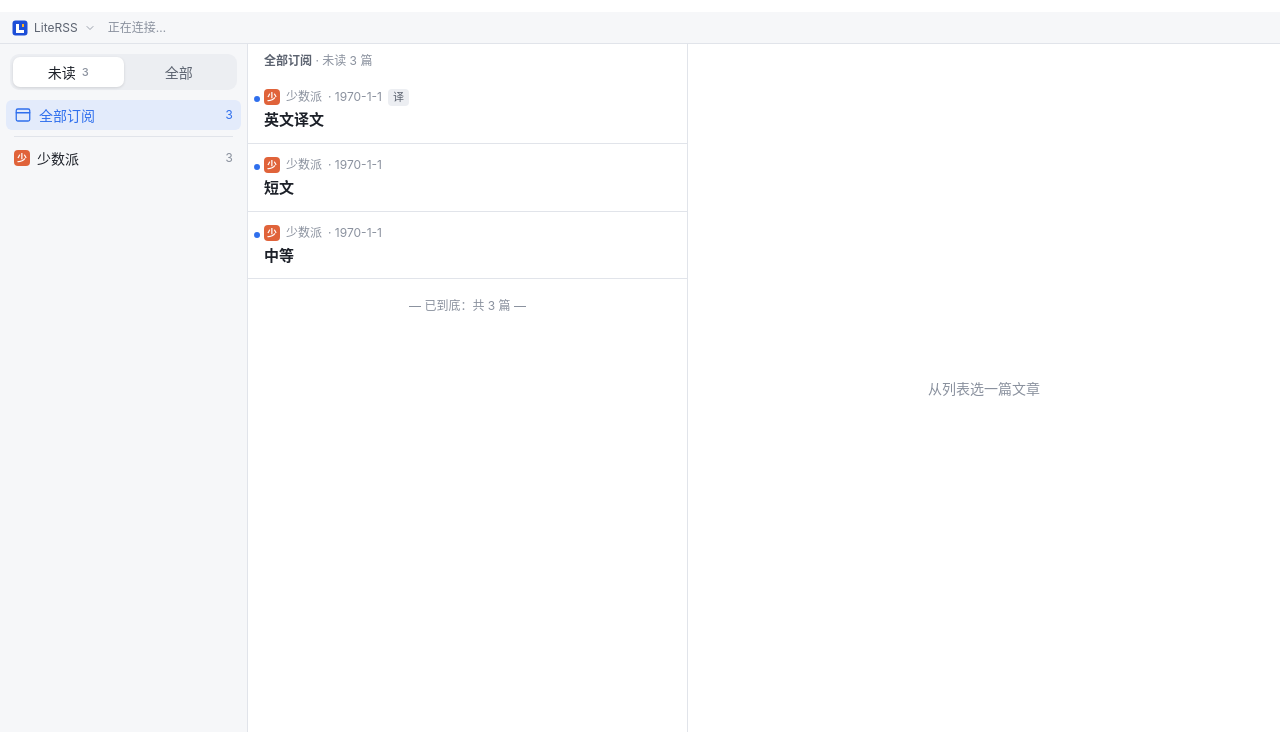
Test: 详情 › 抓取失败：保留 RSS 正文，显示原因与在浏览器打开
What coordinates should you click on to do the following:
click the option "少 少数派 · 1970-1-1 短文"
I would click on:
 (304, 164)
Its box is top-left (248, 144), bottom-right (687, 212).
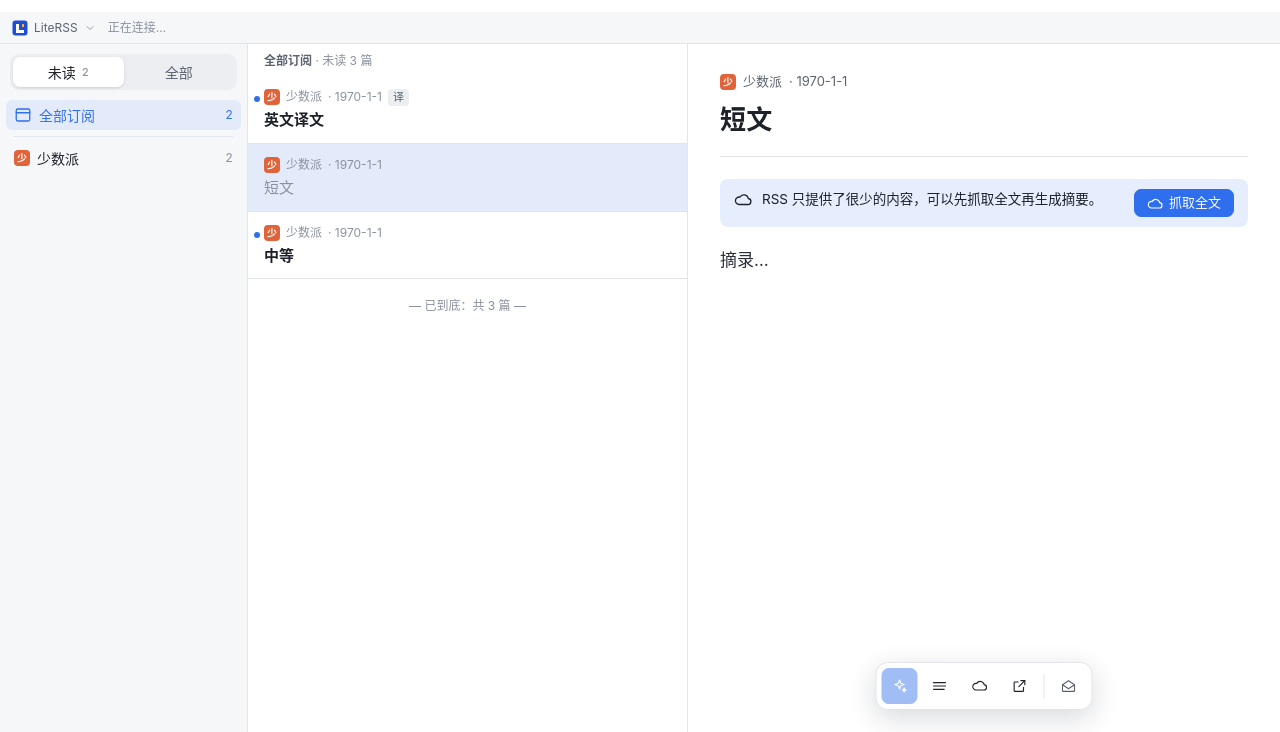
What coordinates should you click on to do the following:
click the button named "抓取全文"
I would click on:
 (980, 686)
Its box is top-left (962, 668), bottom-right (998, 704).
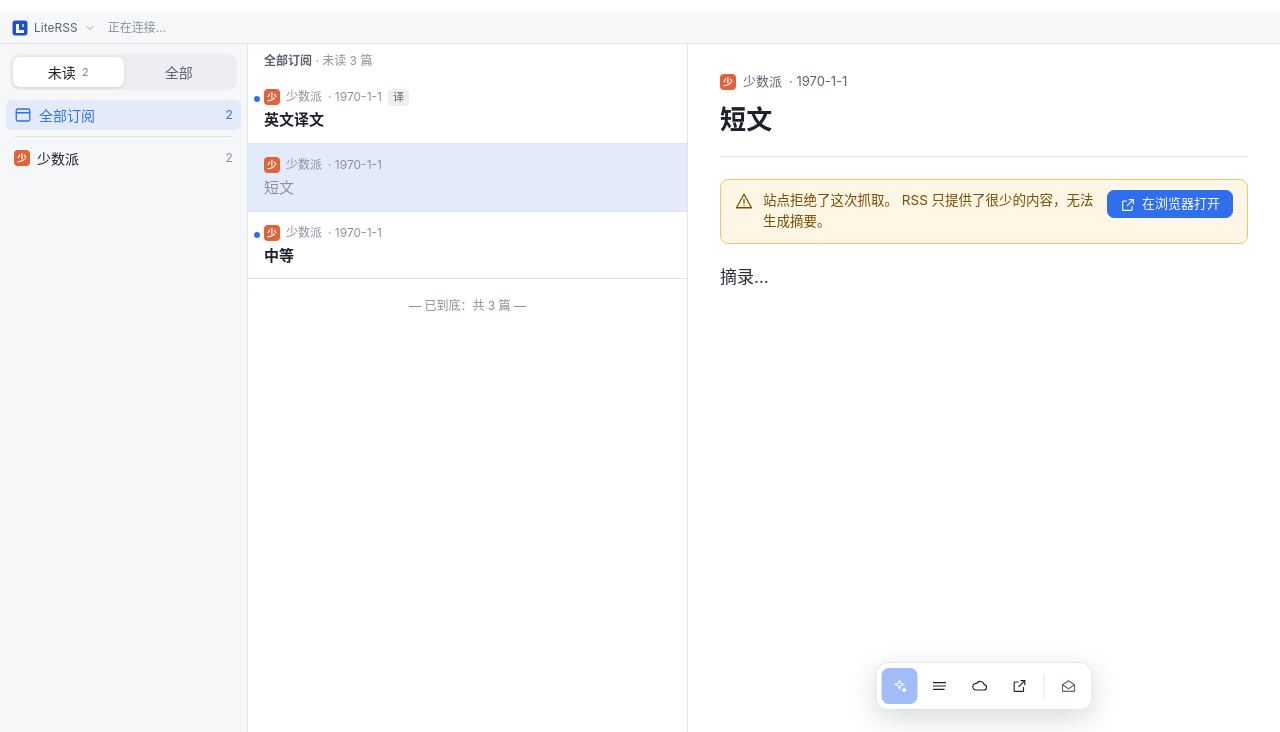
Result: the element with class "warn" shows "站点拒绝了这次抓取。" at top-left (763, 192), bottom-right (1094, 230)
Result: the element with class "warn" shows "无法生成摘要" at top-left (763, 192), bottom-right (1094, 230)
Result: the button "在浏览器打开" is shown at top-left (1107, 190), bottom-right (1233, 218)
